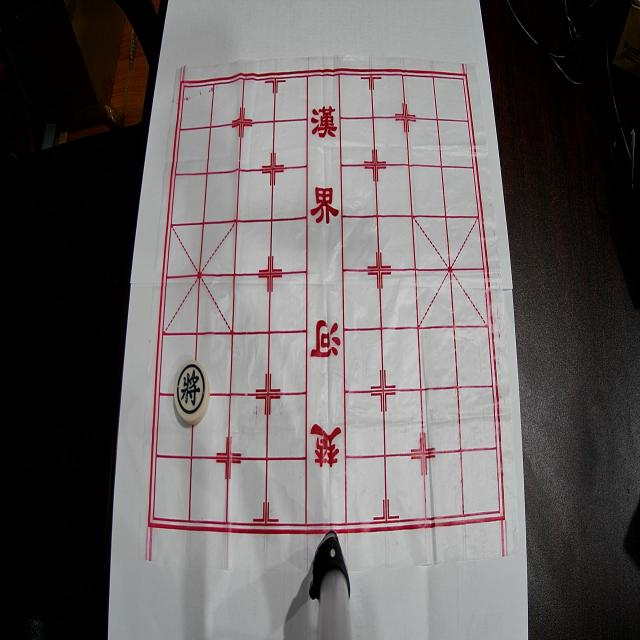black-general: (174, 360, 210, 425)
